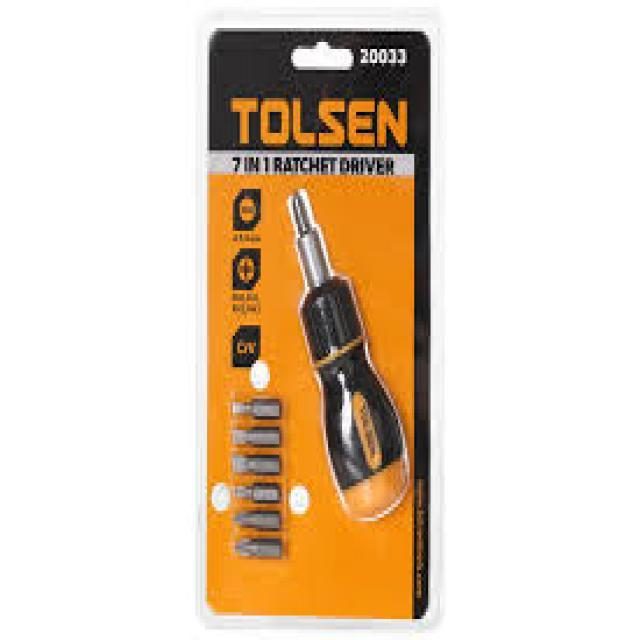screwdriver: (288, 189, 409, 521)
